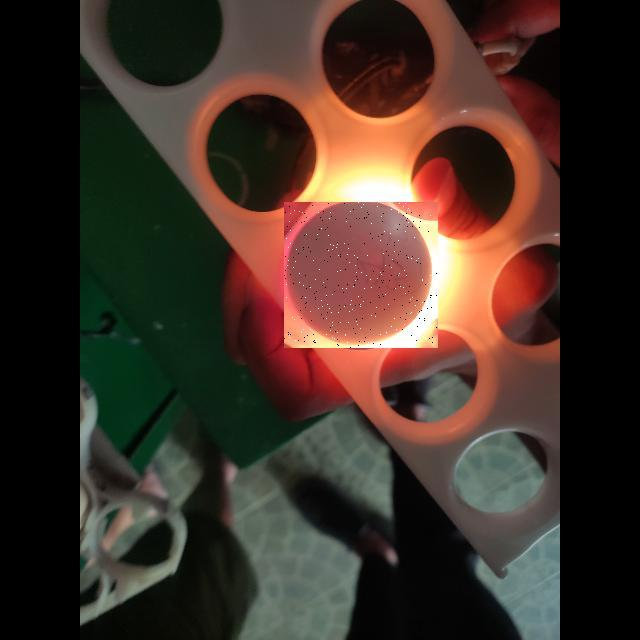Fertile: (284, 202, 438, 348)
